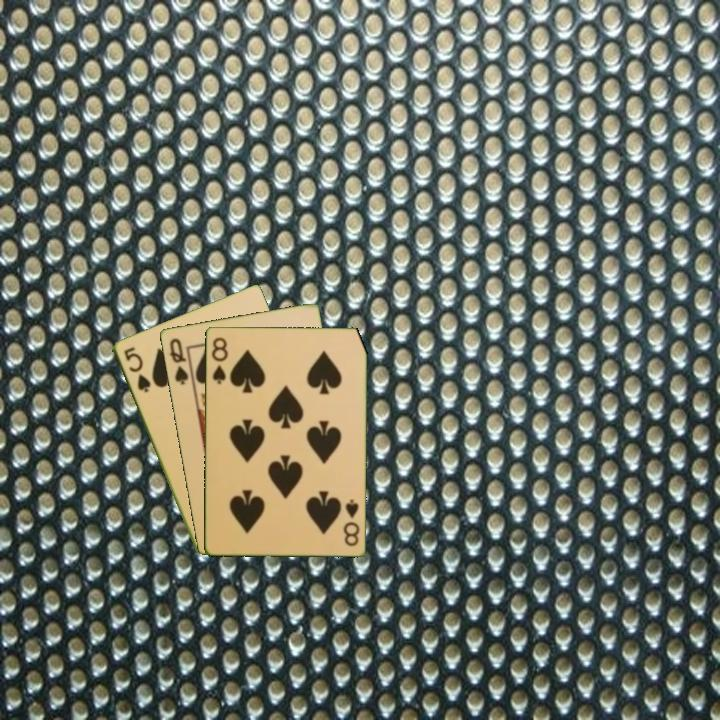5s: (120, 343, 153, 396)
8s: (208, 333, 230, 387), (340, 496, 362, 548)
Qs: (166, 334, 191, 387)
